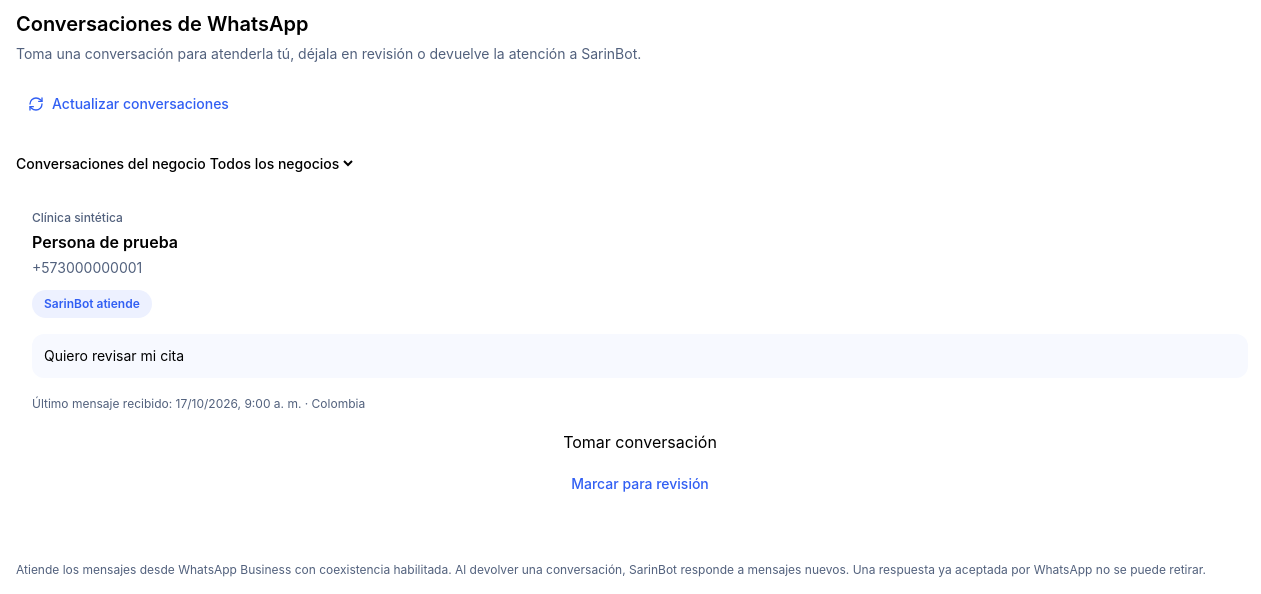
administrative WhatsApp conversation handoff › filters by business without treating hidden conversations as an empty global inbox
This screenshot has width=1261, height=594.
Select "Taller sintético" in the dropdown labelled "Conversaciones del negocio": (281, 164) [206,154,356,173]
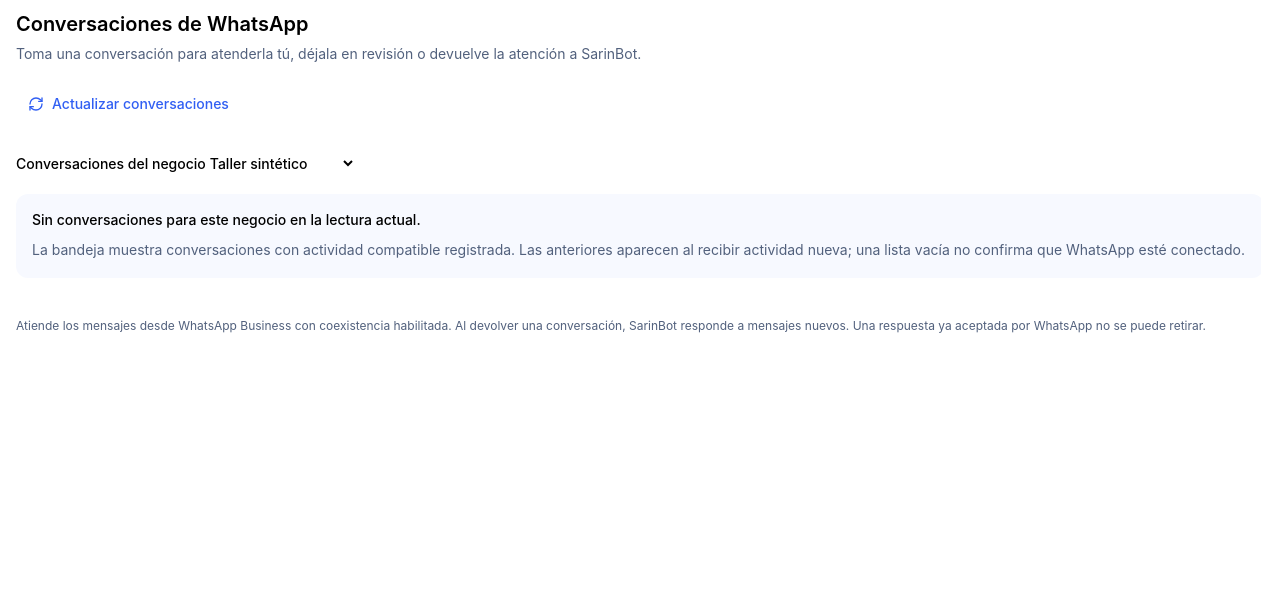
Expected: the text "Persona de prueba" is gone
Expected: the text "Sin conversaciones para este negocio" is shown, [32,211,421,228]
